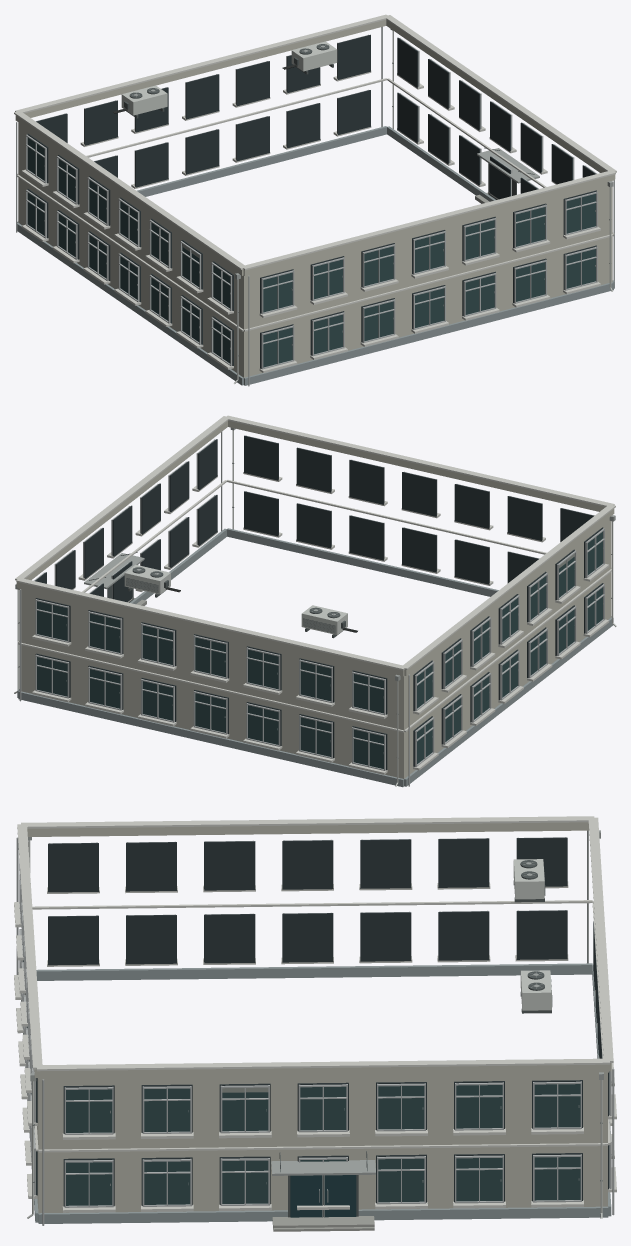
Rendered from osm_way_223859820.glb.
3 renders of one model, top to bottom at view 1: azimuth 30°, elevation 25°; view 2: azimuth 150°, elevation 25°; view 3: azimuth 270°, elevation 25°, orthographic. The views are drawn at different scales.
Visible parts, largest first — view 1: Windows and facade details | osm_way_223859820, Architecture | osm_way_223859820, Roof services | osm_way_223859820, EXTERIOR::osm_way_223859820::rainwater and roof service deta, EXTERIOR::osm_way_223859820::inferred entry doors canopy and; view 2: Windows and facade details | osm_way_223859820, Architecture | osm_way_223859820, Roof services | osm_way_223859820, EXTERIOR::osm_way_223859820::rainwater and roof service deta, EXTERIOR::osm_way_223859820::inferred entry doors canopy and; view 3: Windows and facade details | osm_way_223859820, Architecture | osm_way_223859820, Roof services | osm_way_223859820, EXTERIOR::osm_way_223859820::inferred entry doors canopy and, EXTERIOR::osm_way_223859820::rainwater and roof service deta.
Boxes of the visible parts, box(x1,y1,x2,y2) form: Windows and facade details | osm_way_223859820: box(16, 27, 614, 386); Architecture | osm_way_223859820: box(15, 19, 615, 385); Roof services | osm_way_223859820: box(14, 14, 616, 270); EXTERIOR::osm_way_223859820::rainwater and roof service deta: box(113, 29, 613, 383); EXTERIOR::osm_way_223859820::inferred entry doors canopy and: box(475, 147, 539, 203); Windows and facade details | osm_way_223859820: box(19, 431, 609, 786); Architecture | osm_way_223859820: box(16, 420, 614, 787); Roof services | osm_way_223859820: box(15, 415, 615, 670); EXTERIOR::osm_way_223859820::rainwater and roof service deta: box(14, 427, 616, 786); EXTERIOR::osm_way_223859820::inferred entry doors canopy and: box(84, 552, 146, 605); Windows and facade details | osm_way_223859820: box(14, 830, 616, 1225); Architecture | osm_way_223859820: box(21, 822, 611, 1223); Roof services | osm_way_223859820: box(17, 816, 613, 1071); EXTERIOR::osm_way_223859820::inferred entry doors canopy and: box(271, 1151, 375, 1231); EXTERIOR::osm_way_223859820::rainwater and roof service deta: box(27, 830, 603, 1218).
Size of the model in its own units: 29.34 by 8.98 by 28.51.
